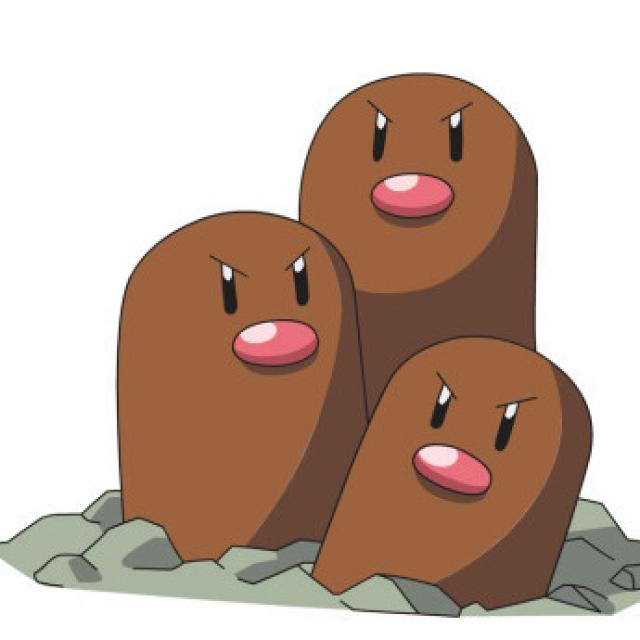Dugtrio: (115, 71, 596, 605)
